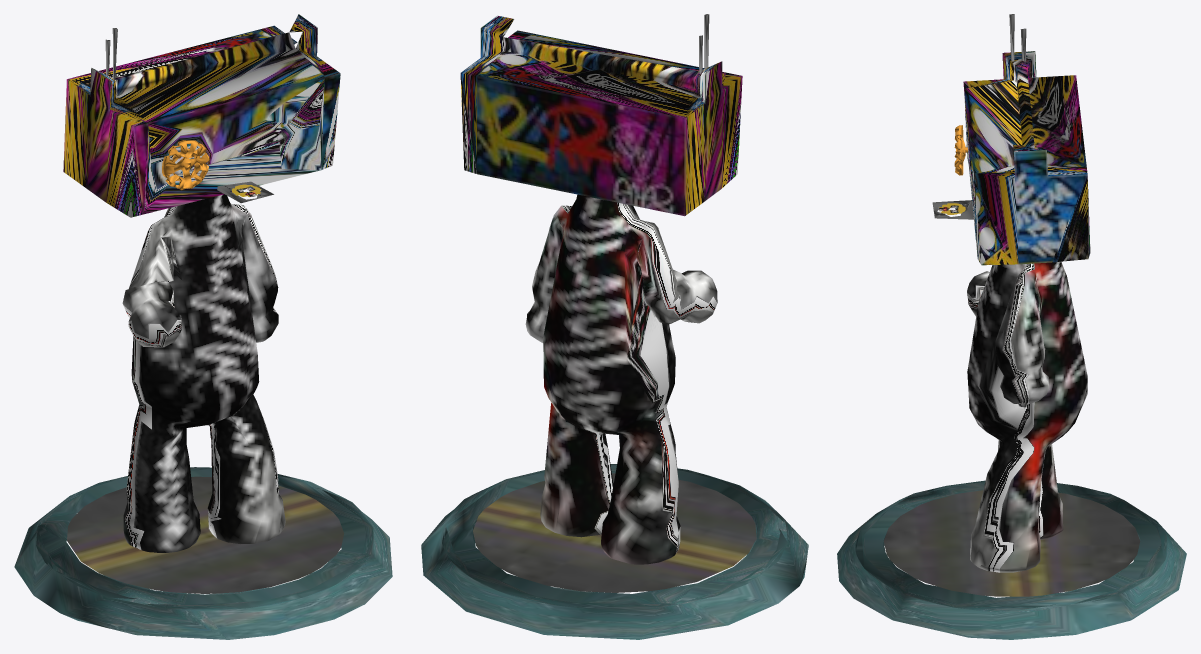
3 views of the same model, side by side, from view 1: azimuth 30°, elevation 25°; view 2: azimuth 150°, elevation 25°; view 3: azimuth 270°, elevation 25° (orthographic). The views are drawn at different scales.
Size of the model in its own units: 1.45 by 2.31 by 1.43.
Materials: 9 (6 with a texture image).
